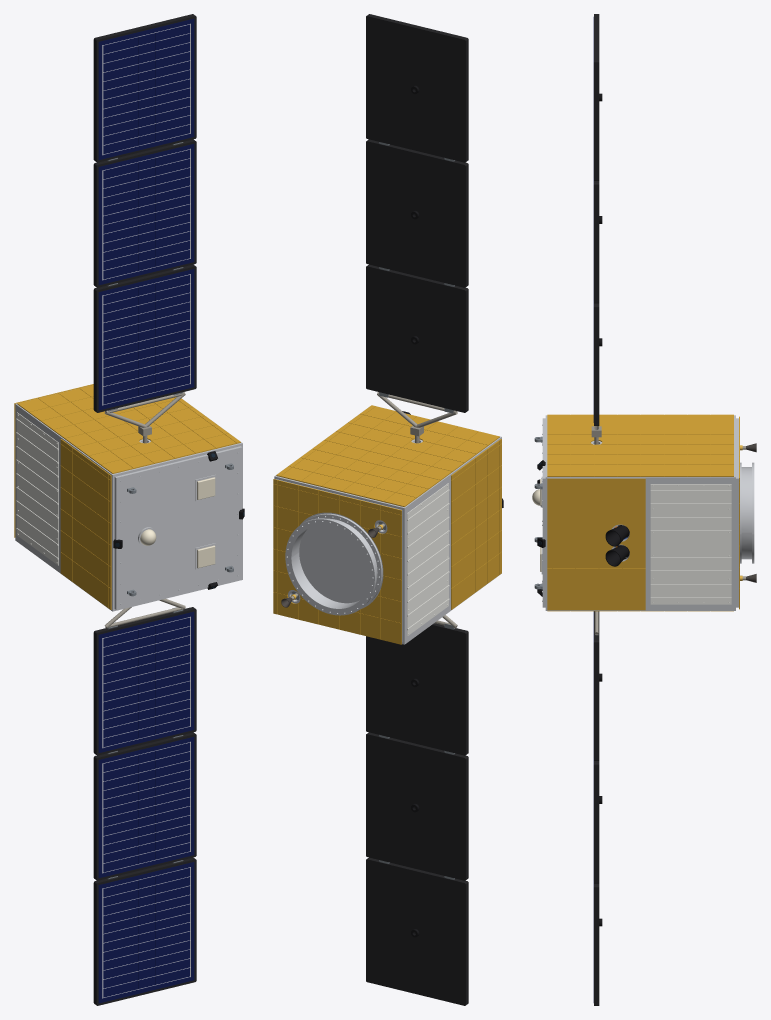
File: smallsat.glb
3 views of the same model, side by side, from view 1: azimuth 30°, elevation 25°; view 2: azimuth 150°, elevation 25°; view 3: azimuth 270°, elevation 25° (orthographic). The views are drawn at different scales.
Parts seen in each view (by area): view 1: Top Deck, Wing +Y Panel 1 Cell Blanket, Wing -Y Panel 3 Cell Blanket, Wing +Y Panel 2 Cell Blanket, Wing +Y Panel 3 Cell Blanket, Wing -Y Panel 2 Cell Blanket, Wing -Y Panel 1 Cell Blanket, MLI Blanket +Y, MLI Blanket -X Upper, Radiator Panel -X, Wing +Y Panel 3 Substrate, Wing -Y Panel 1 Substrate (+14 smaller); view 2: Wing +Y Panel 3 Substrate, Wing -Y Panel 3 Substrate, Wing +Y Panel 1 Substrate, Wing -Y Panel 2 Substrate, Wing +Y Panel 2 Substrate, MLI Blanket +Y, Wing -Y Panel 1 Substrate, MLI Blanket Aft, MLI Blanket -X Upper, Radiator Panel -X, Bottom Deck, Launch Adapter Ring (+3 smaller); view 3: MLI Blanket +X Upper, MLI Blanket +Y, Radiator Panel +X, Side Panel +X, Launch Adapter Ring, Wing +Y Panel 3 Substrate, Wing -Y Panel 1 Substrate, Side Panel +Y, Wing +Y Panel 1 Substrate, Wing -Y Panel 2 Substrate, Wing +Y Panel 2 Substrate, Wing -Y Panel 3 Substrate (+2 smaller).
Part boxes in pixels (<box>): Top Deck: <box>114,446,242,609</box>; Wing +Y Panel 1 Cell Blanket: <box>98,269,194,410</box>; Wing -Y Panel 3 Cell Blanket: <box>98,862,194,1003</box>; Wing +Y Panel 2 Cell Blanket: <box>98,144,194,285</box>; Wing +Y Panel 3 Cell Blanket: <box>98,18,194,159</box>; Wing -Y Panel 2 Cell Blanket: <box>98,737,194,878</box>; Wing -Y Panel 1 Cell Blanket: <box>98,611,194,752</box>; MLI Blanket +Y: <box>17,385,240,473</box>; MLI Blanket -X Upper: <box>60,439,111,609</box>; Radiator Panel -X: <box>16,412,58,565</box>; Wing +Y Panel 3 Substrate: <box>93,14,196,162</box>; Wing -Y Panel 1 Substrate: <box>93,607,196,755</box>; Wing +Y Panel 3 Substrate: <box>366,14,468,162</box>; Wing -Y Panel 3 Substrate: <box>366,857,468,1005</box>; Wing +Y Panel 1 Substrate: <box>366,264,468,412</box>; Wing -Y Panel 2 Substrate: <box>366,732,468,880</box>; Wing +Y Panel 2 Substrate: <box>366,139,468,287</box>; MLI Blanket +Y: <box>276,405,499,506</box>; Wing -Y Panel 1 Substrate: <box>366,623,468,755</box>; MLI Blanket Aft: <box>273,479,401,644</box>; MLI Blanket -X Upper: <box>451,439,501,609</box>; Radiator Panel -X: <box>407,483,449,636</box>; Bottom Deck: <box>276,479,402,641</box>; Launch Adapter Ring: <box>285,513,382,615</box>; MLI Blanket +X Upper: <box>547,478,645,610</box>; MLI Blanket +Y: <box>547,414,733,476</box>; Radiator Panel +X: <box>650,484,731,604</box>; Side Panel +X: <box>545,479,735,608</box>; Launch Adapter Ring: <box>740,462,754,563</box>; Wing +Y Panel 3 Substrate: <box>594,14,599,180</box>; Wing -Y Panel 1 Substrate: <box>594,611,599,760</box>; Side Panel +Y: <box>545,415,735,479</box>; Wing +Y Panel 1 Substrate: <box>594,303,599,425</box>; Wing -Y Panel 2 Substrate: <box>594,761,599,883</box>; Wing +Y Panel 2 Substrate: <box>594,181,599,303</box>; Wing -Y Panel 3 Substrate: <box>594,883,599,1005</box>.
Bounding box in the file's own units: 674 × 4246 × 914.
